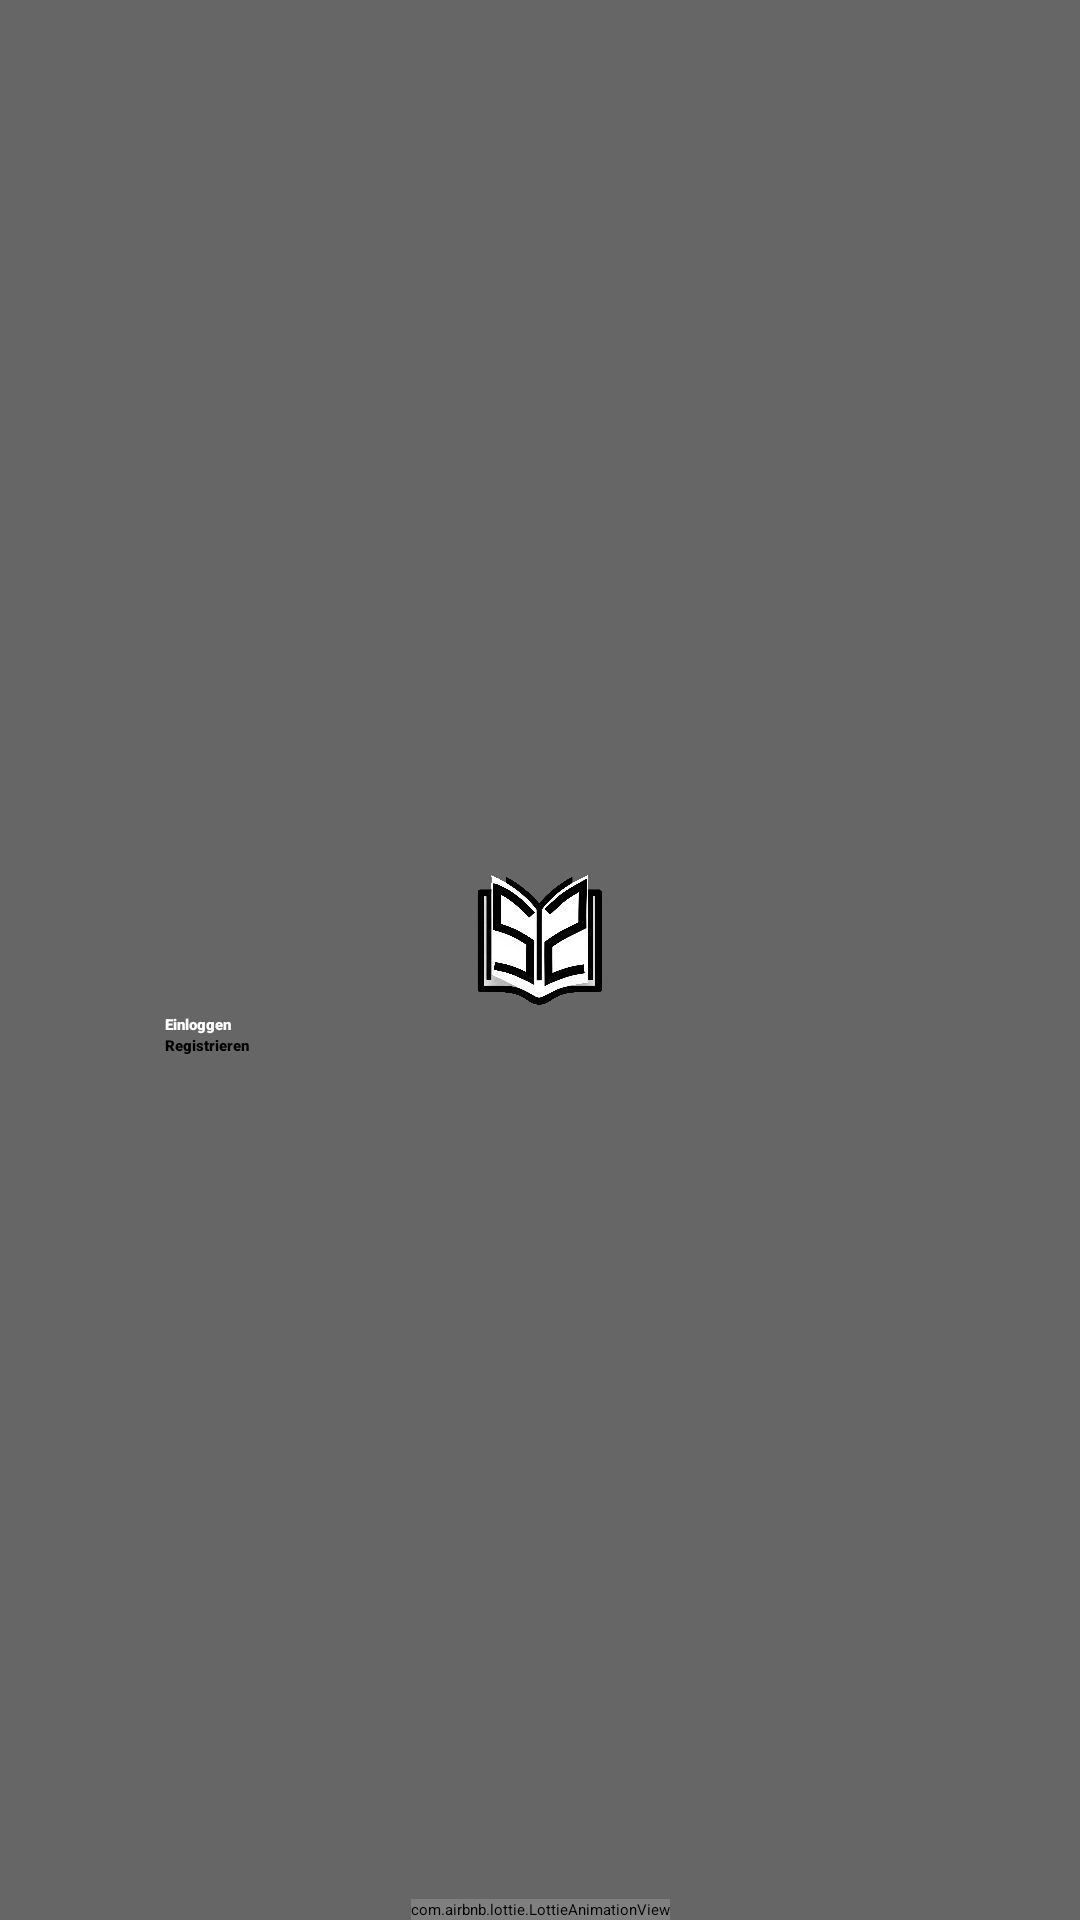

Locate icon controls on the screen. Image size 1080 x 1920, boxes as (x1, y1, x2, y2).
studyshare: (478, 875, 602, 1005)
